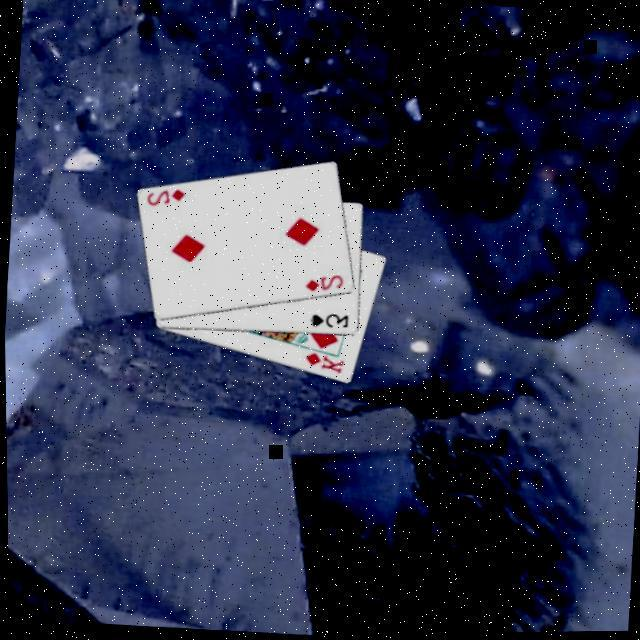2D: (141, 185, 185, 212), (299, 272, 343, 298)
3S: (304, 310, 348, 334)
KD: (297, 350, 343, 380)
